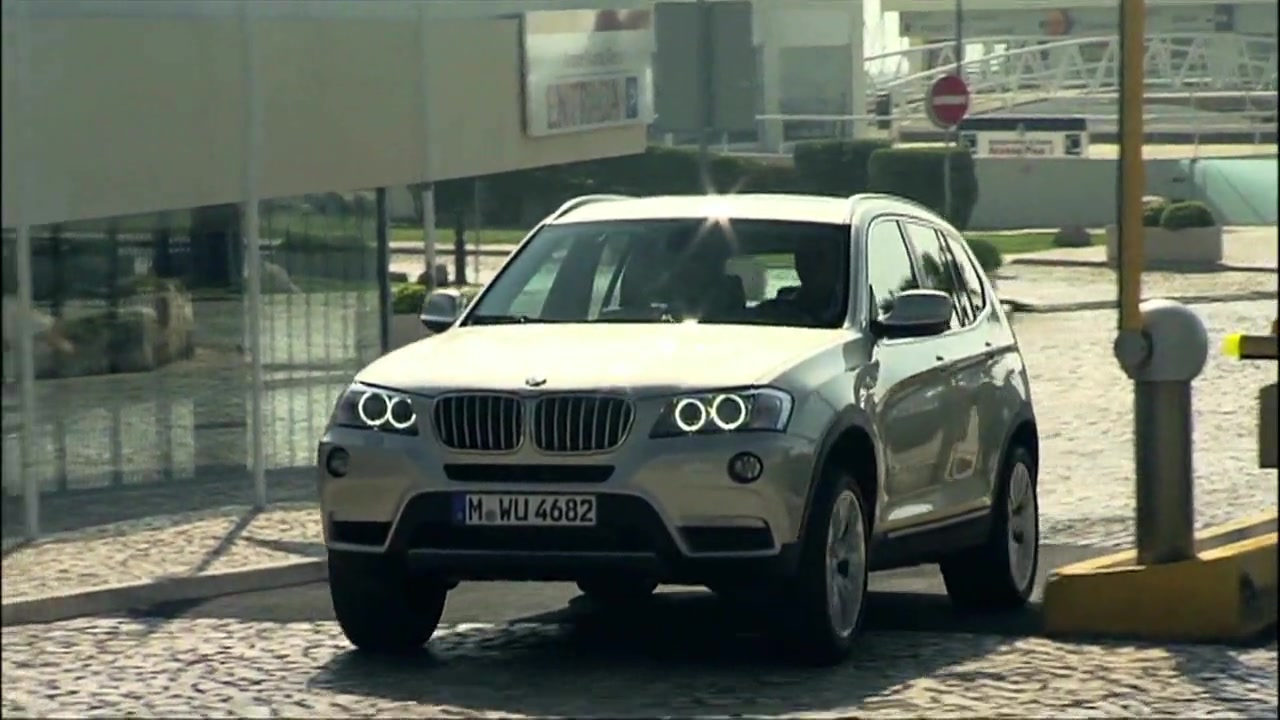car: (314, 188, 1044, 662)
